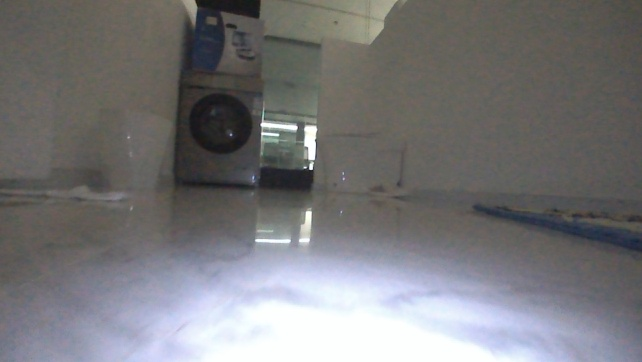toilet: (311, 124, 407, 192)
washing_machine: (169, 66, 279, 194)
